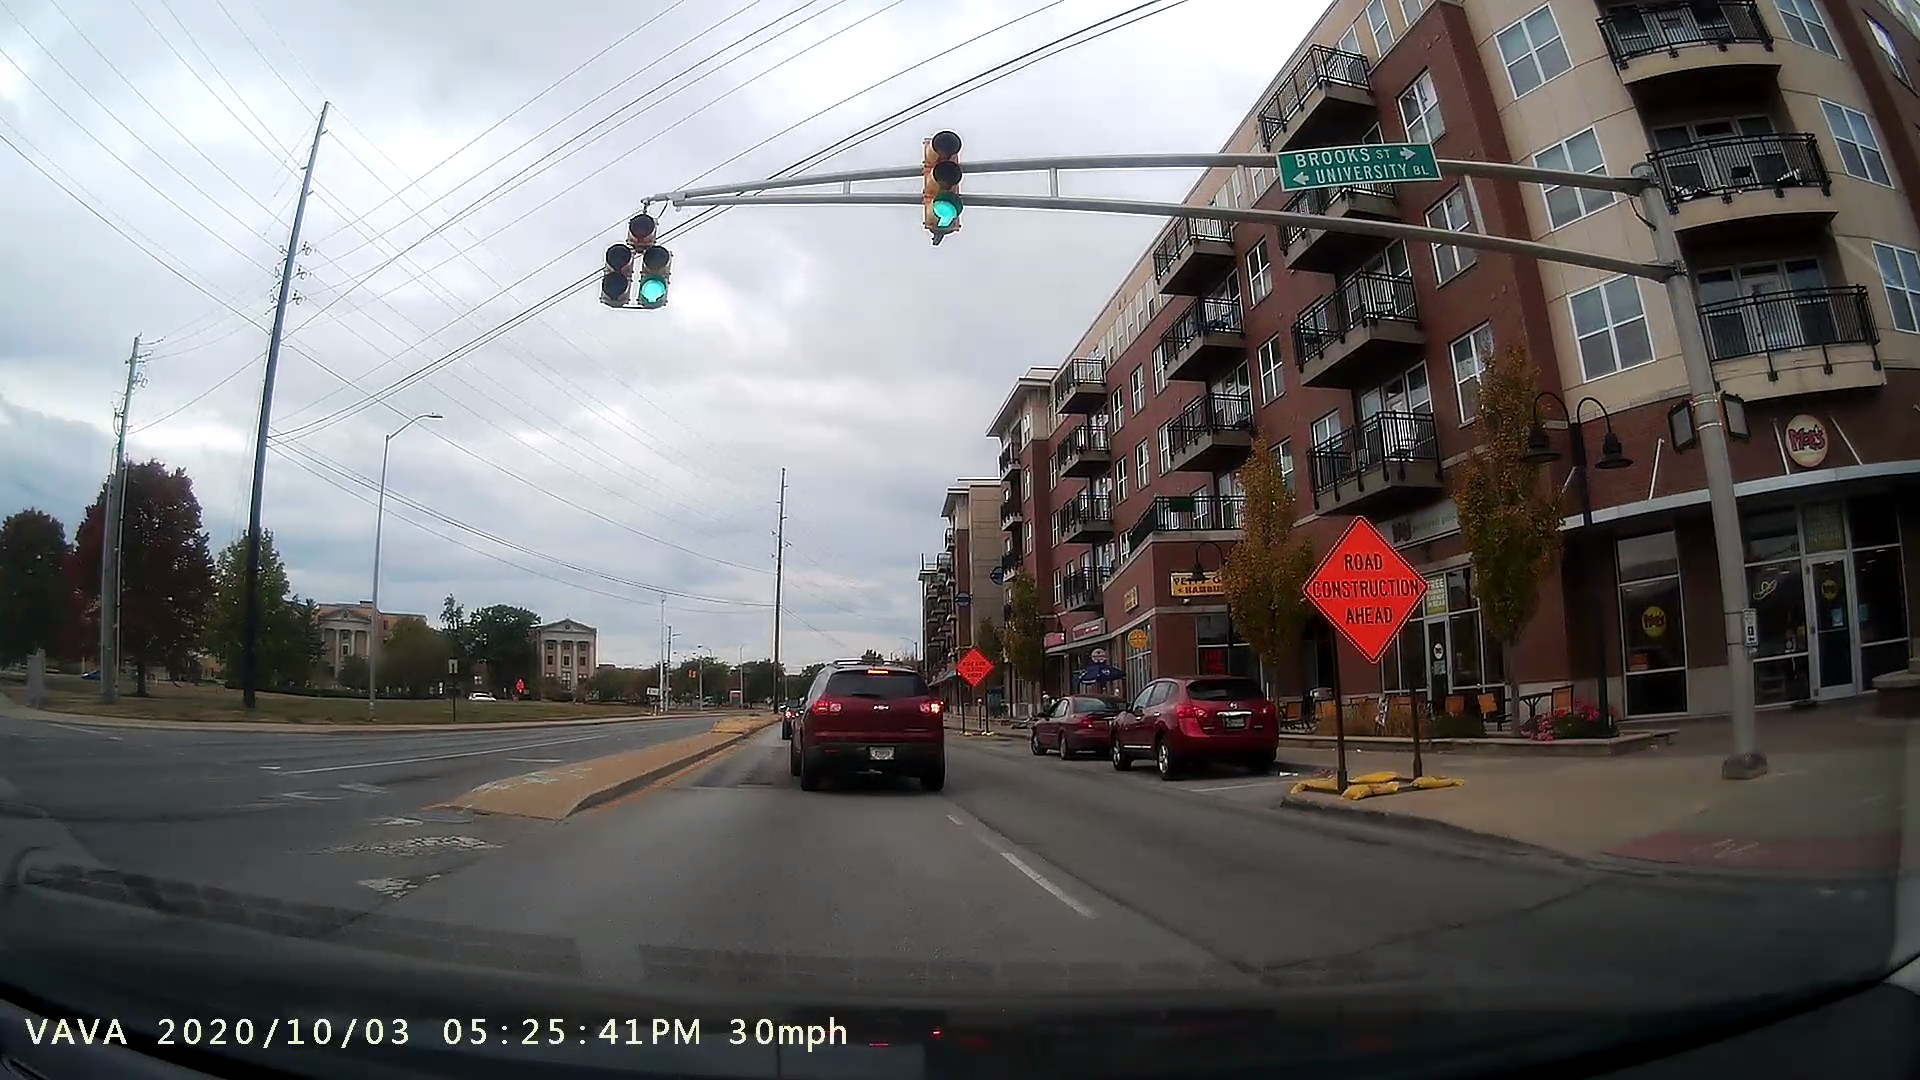ttcs_road_const_ahead: (1287, 475, 1473, 807)
